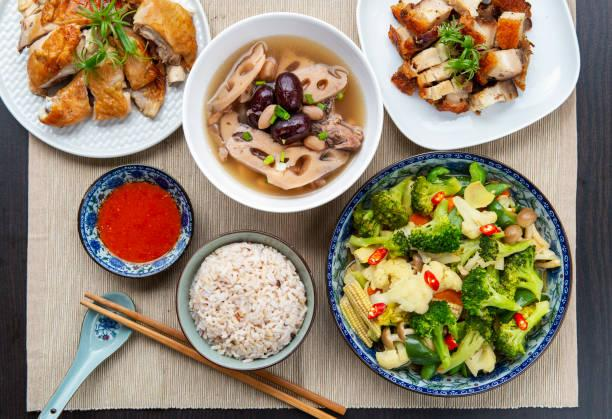Braised Crucian Carp: (325, 152, 568, 395), (181, 10, 380, 215), (357, 1, 580, 153), (2, 0, 207, 159)
